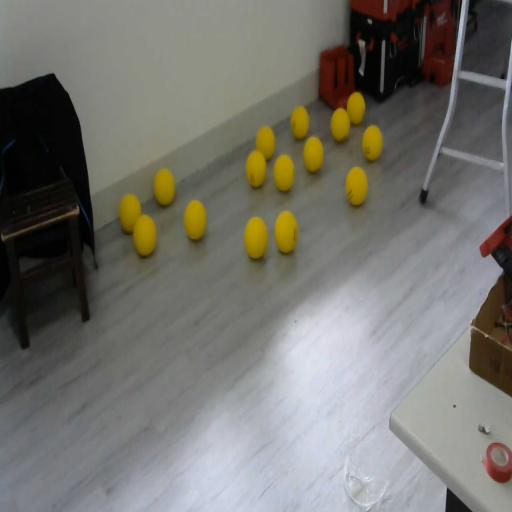FUEL: (132, 212, 158, 258), (244, 214, 268, 260), (183, 198, 208, 241), (274, 210, 298, 254), (344, 166, 368, 206), (273, 153, 295, 192), (254, 124, 276, 162), (154, 168, 175, 206), (246, 149, 266, 188), (303, 136, 324, 173), (362, 124, 382, 162), (290, 105, 310, 140), (330, 107, 350, 142), (346, 91, 366, 125)
